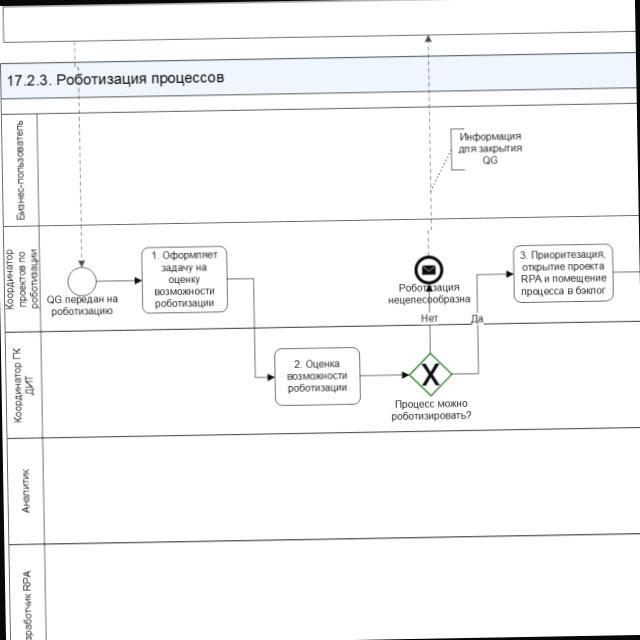arrow: (451, 268, 514, 378), (226, 274, 274, 382), (418, 34, 439, 255), (73, 97, 87, 266), (422, 284, 437, 353), (96, 274, 140, 286), (360, 370, 409, 380)
circle: (415, 256, 443, 285), (68, 267, 96, 296)
diamond: (409, 352, 452, 397)
rectangle: (513, 244, 613, 302), (142, 246, 227, 313), (275, 347, 360, 405)
text_region: (6, 336, 38, 427), (4, 245, 39, 310), (390, 398, 473, 422), (46, 294, 120, 318)
